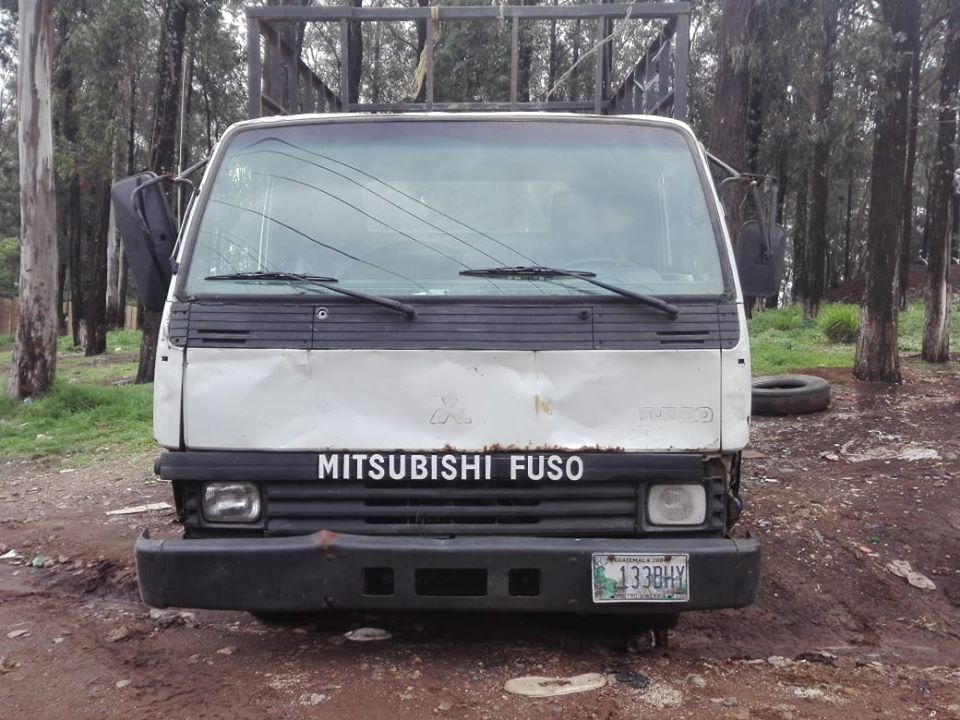camion: (143, 3, 781, 639)
